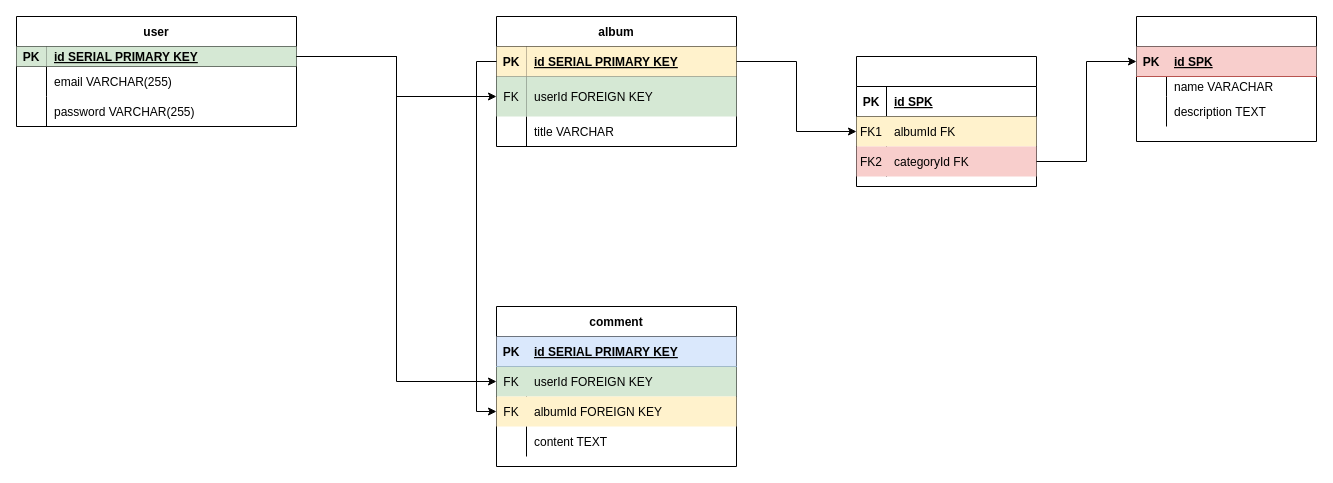
This 1333x483 diagram has some shape labels left out. Here are the shapes that lost their labels. From the top down, the box of each, then its label:
(1136, 16, 1316, 142): category
(856, 56, 1036, 186): albums_categories
